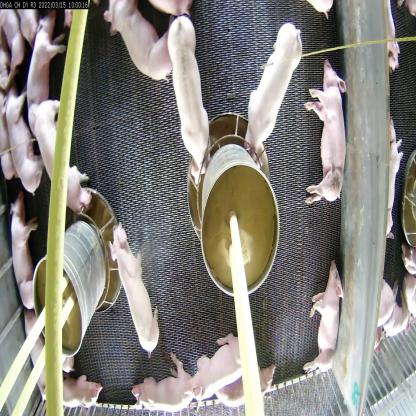Pig: (302, 34, 354, 214), (104, 215, 164, 359), (26, 92, 87, 215), (246, 26, 298, 164), (166, 17, 212, 170), (104, 0, 174, 92), (5, 90, 48, 194), (187, 332, 242, 408), (309, 268, 342, 380), (27, 16, 60, 112), (139, 365, 194, 415), (222, 365, 276, 415), (12, 199, 36, 296), (58, 366, 107, 406)
